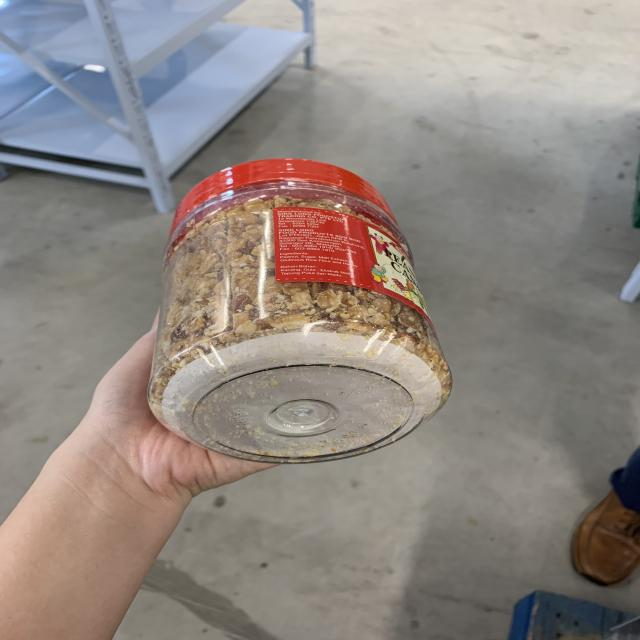object_name: (161, 191, 439, 447)
